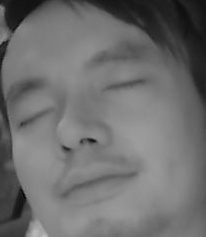blink: (101, 74, 142, 97), (17, 108, 55, 126)
mouth: (53, 161, 138, 204)
